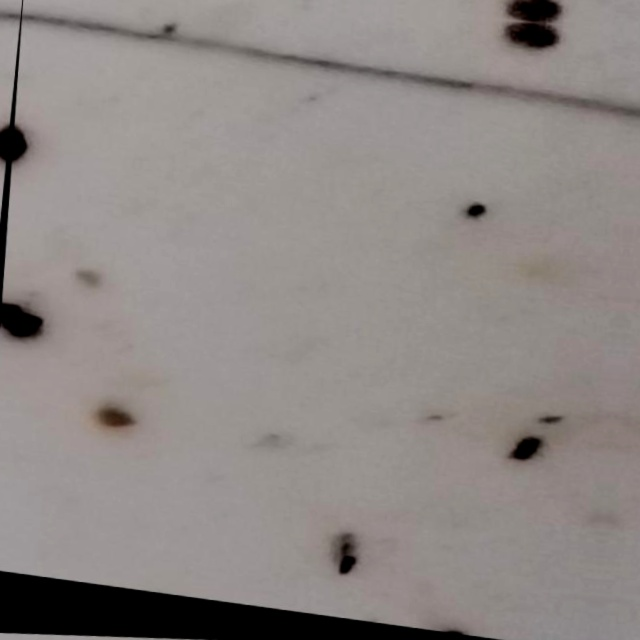varroa: (498, 20, 566, 55), (8, 131, 29, 173)
